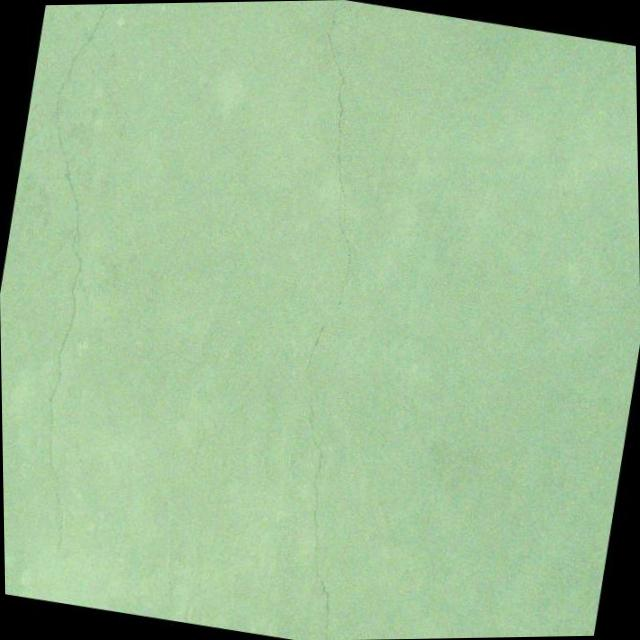crack: (221, 0, 438, 640), (0, 2, 161, 555), (4, 556, 58, 602)
